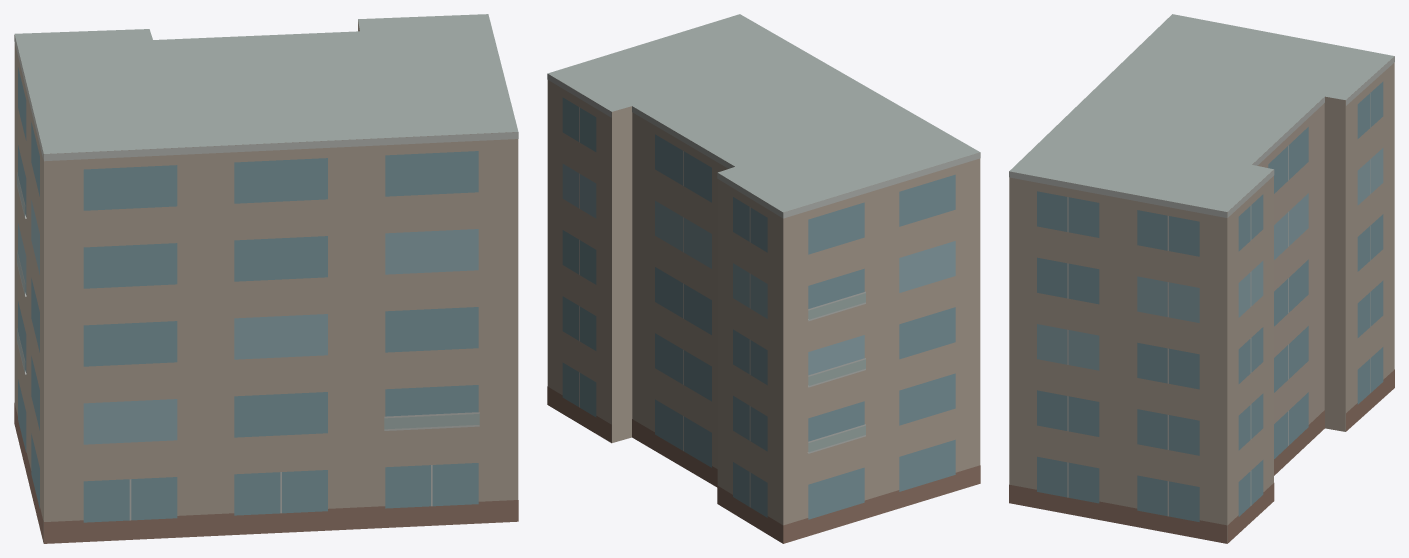
The model's file is survey-upis-32531968.glb.
3 renders of one model, left to right at view 1: azimuth 30°, elevation 25°; view 2: azimuth 150°, elevation 25°; view 3: azimuth 270°, elevation 25°, orthographic. The views are drawn at different scales.
Parts seen in each view (by area): view 1: survey-upis-32531968.tmp; view 2: survey-upis-32531968.tmp; view 3: survey-upis-32531968.tmp.
Boxes of the visible parts, box(x1,y1,x2,y2) form: survey-upis-32531968.tmp: box(14, 14, 518, 543); survey-upis-32531968.tmp: box(547, 14, 980, 543); survey-upis-32531968.tmp: box(1009, 14, 1394, 543).
Bounding box in the file's own units: 17.04 × 13.3 × 14.02.
